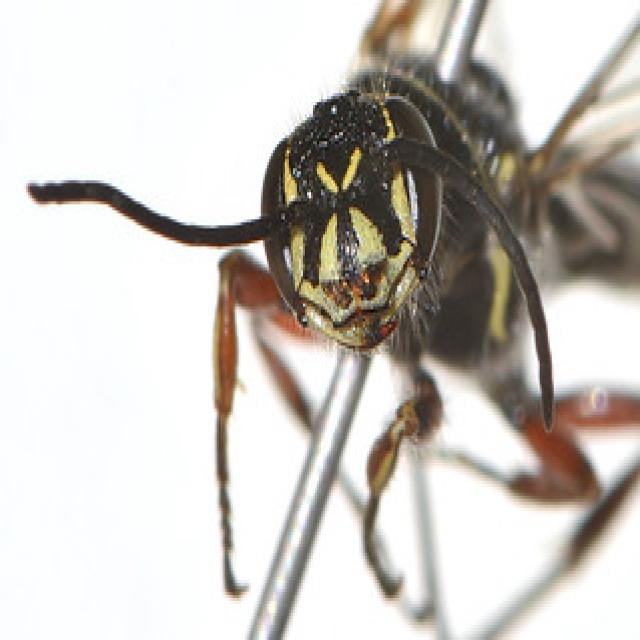Guepe: (0, 0, 622, 637)
